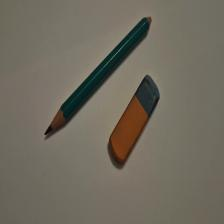eraser: (109, 75, 161, 166)
pencil: (45, 17, 153, 137)
